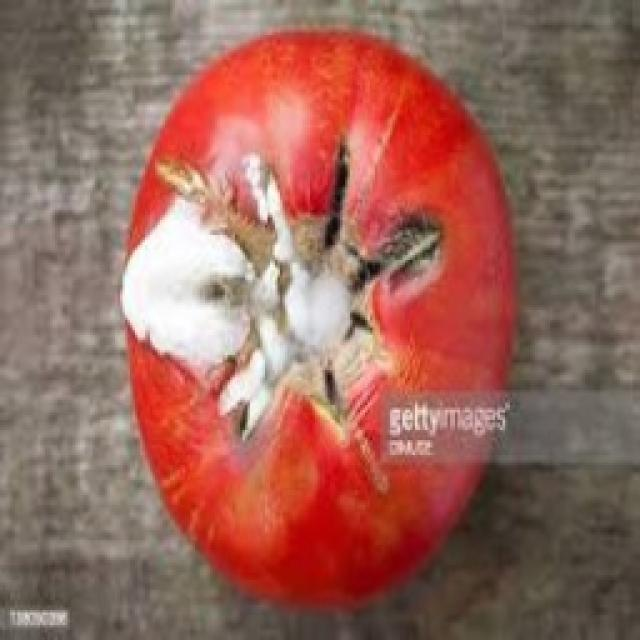overripe tomato: (103, 11, 535, 616)
